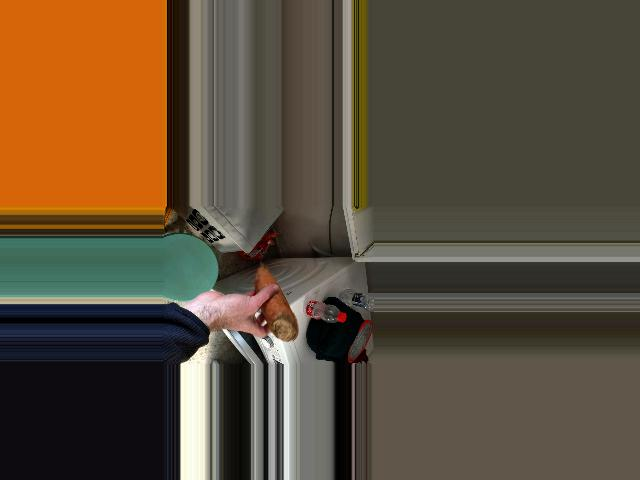sweet_potato: (248, 268, 301, 336)
